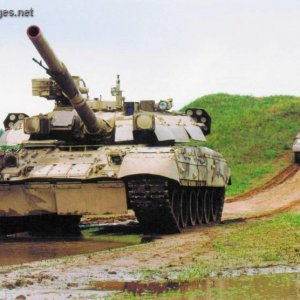Battle Tank: (1, 24, 232, 232)
